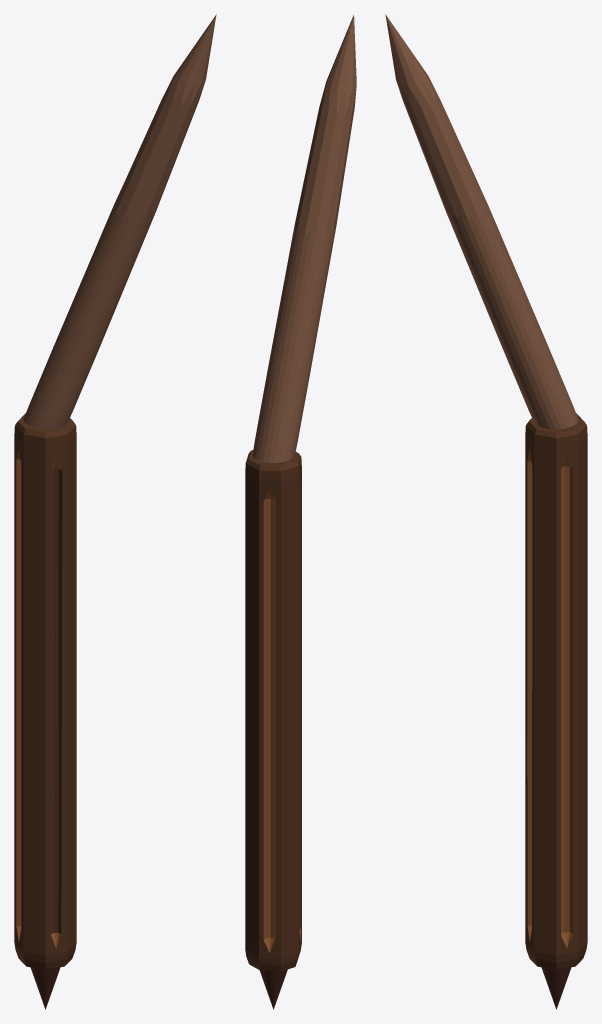
File: Wand 592.glb
3 views of the same model, side by side, from view 1: azimuth 90°, elevation 25°; view 2: azimuth 150°, elevation 25°; view 3: azimuth 270°, elevation 25° (orthographic). The views are drawn at different scales.
Parts seen in each view (by area): view 1: GeneratedWand; view 2: GeneratedWand; view 3: GeneratedWand.
Boxes of the visible parts, <box> form: GeneratedWand: <box>14,14,216,1009</box>; GeneratedWand: <box>245,15,356,1009</box>; GeneratedWand: <box>385,14,587,1009</box>.
Bounding box in the file's own units: 0.0289 × 0.5106 × 0.0939.
